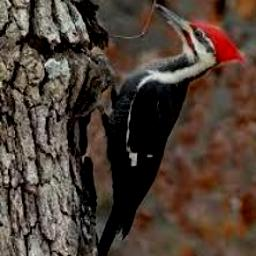Woodpecker: (96, 4, 246, 256)
